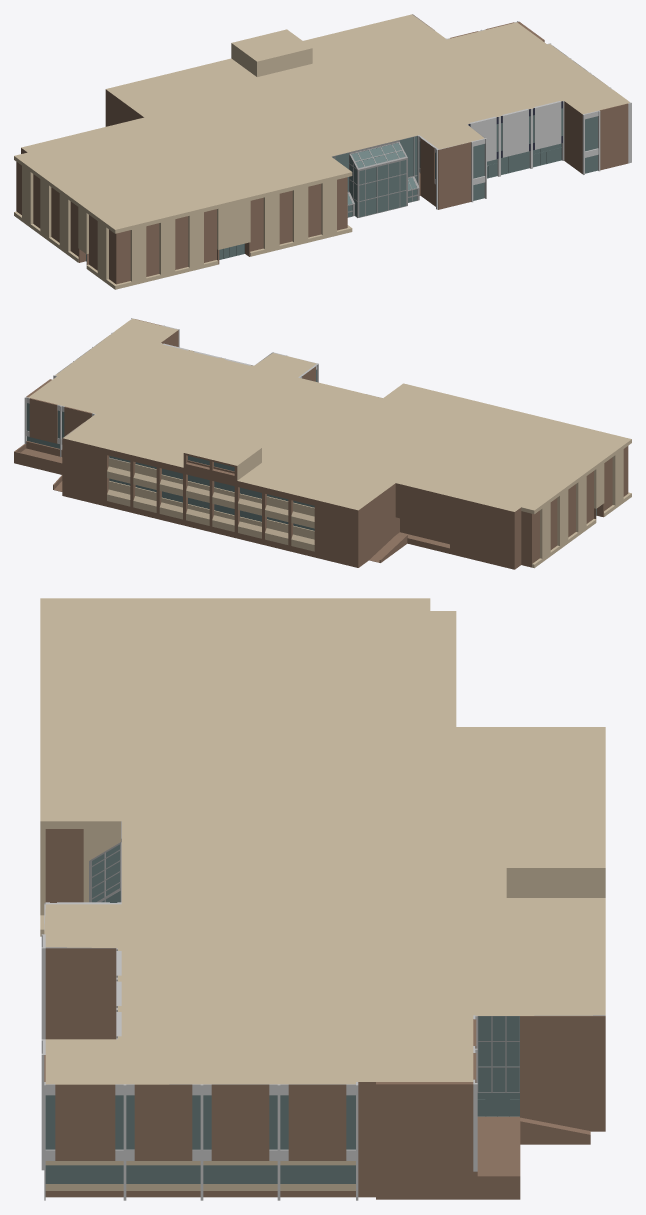
File: Kaufman_Textured.fbx
The picture shows the model from 3 angles, top to bottom: view 1: azimuth 30°, elevation 25°; view 2: azimuth 150°, elevation 25°; view 3: azimuth 270°, elevation 25°; orthographic projection. The views are drawn at different scales.
Visible parts, largest first — view 1: Kaufman; view 2: Kaufman; view 3: Kaufman.
Boxes of the visible parts, x1,y1,x2,y2 form: Kaufman: (14, 14, 631, 289); Kaufman: (14, 318, 631, 569); Kaufman: (40, 598, 605, 1200).
Size of the model in its own units: 42.6 by 5.92 by 20.9.
